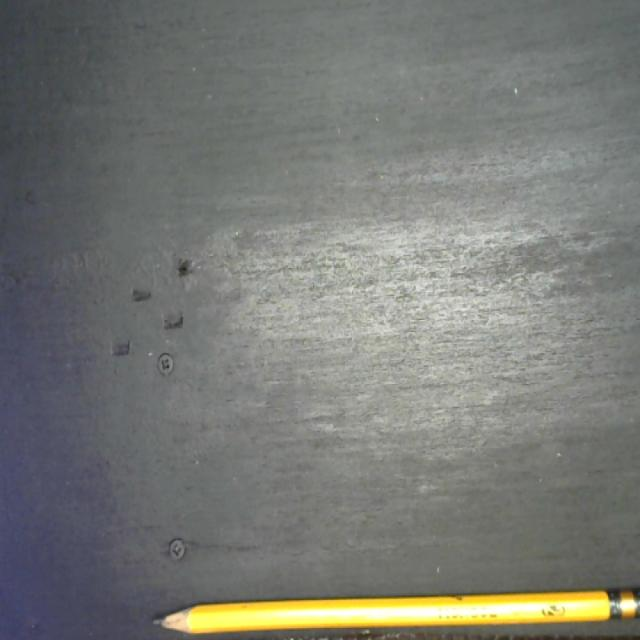biodegradable: (148, 586, 640, 638)
